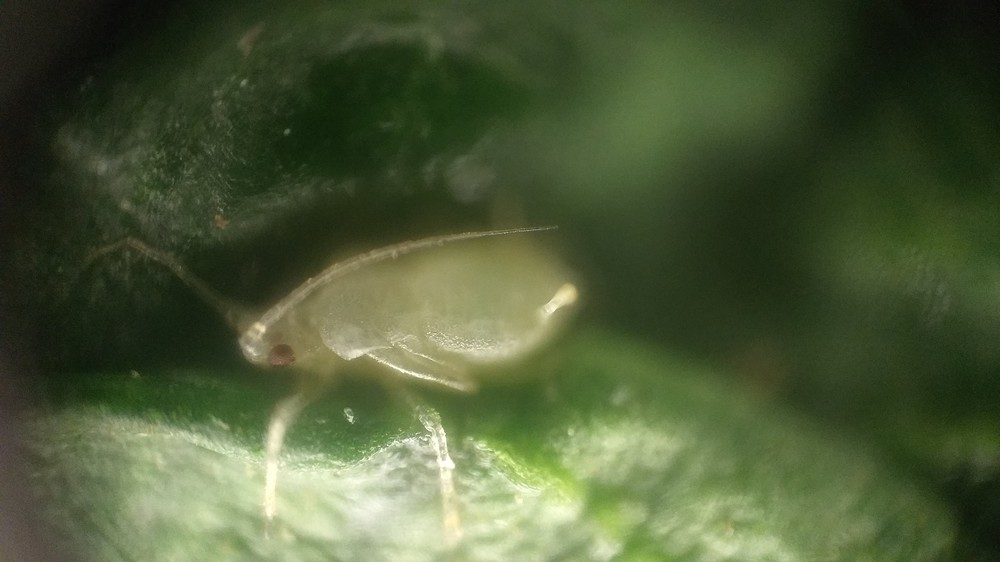Pulgon: (121, 180, 687, 544)
